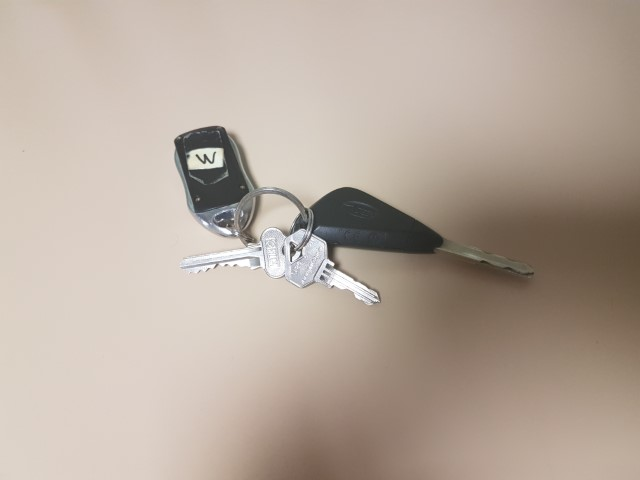key: (289, 185, 536, 280)
